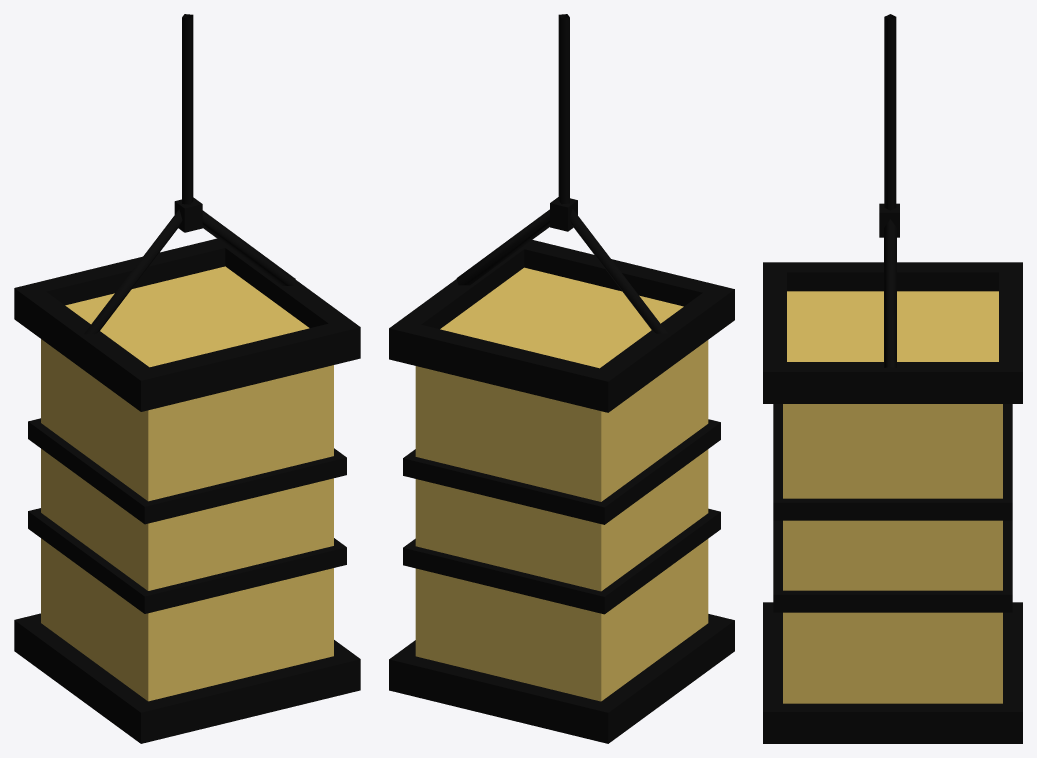
File: SM_lantern_japan_03.fbx
The picture shows the model from 3 angles, left to right: view 1: azimuth 30°, elevation 25°; view 2: azimuth 150°, elevation 25°; view 3: azimuth 270°, elevation 25°; orthographic projection. The views are drawn at different scales.
Parts seen in each view (by area): view 1: Box008; view 2: Box008; view 3: Box008.
Boxes of the visible parts, bbox=[...] form: Box008: bbox=[14, 14, 360, 743]; Box008: bbox=[389, 14, 734, 743]; Box008: bbox=[763, 14, 1022, 743].
Bounding box in the file's own units: 16.39 × 46.74 × 16.39.
